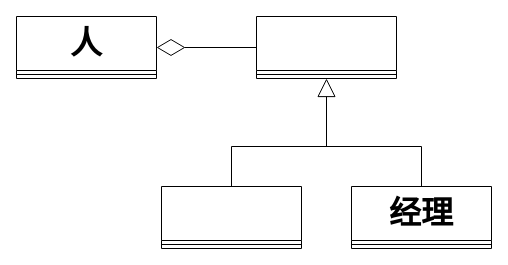
Some shapes in this 508 by 265 pixel diagram are drawn without their labels. Here are the shapes that lost their labels. From the top down, the box of each, then its label:
(256, 16, 396, 78): 角色
(160, 186, 302, 248): 雇员
